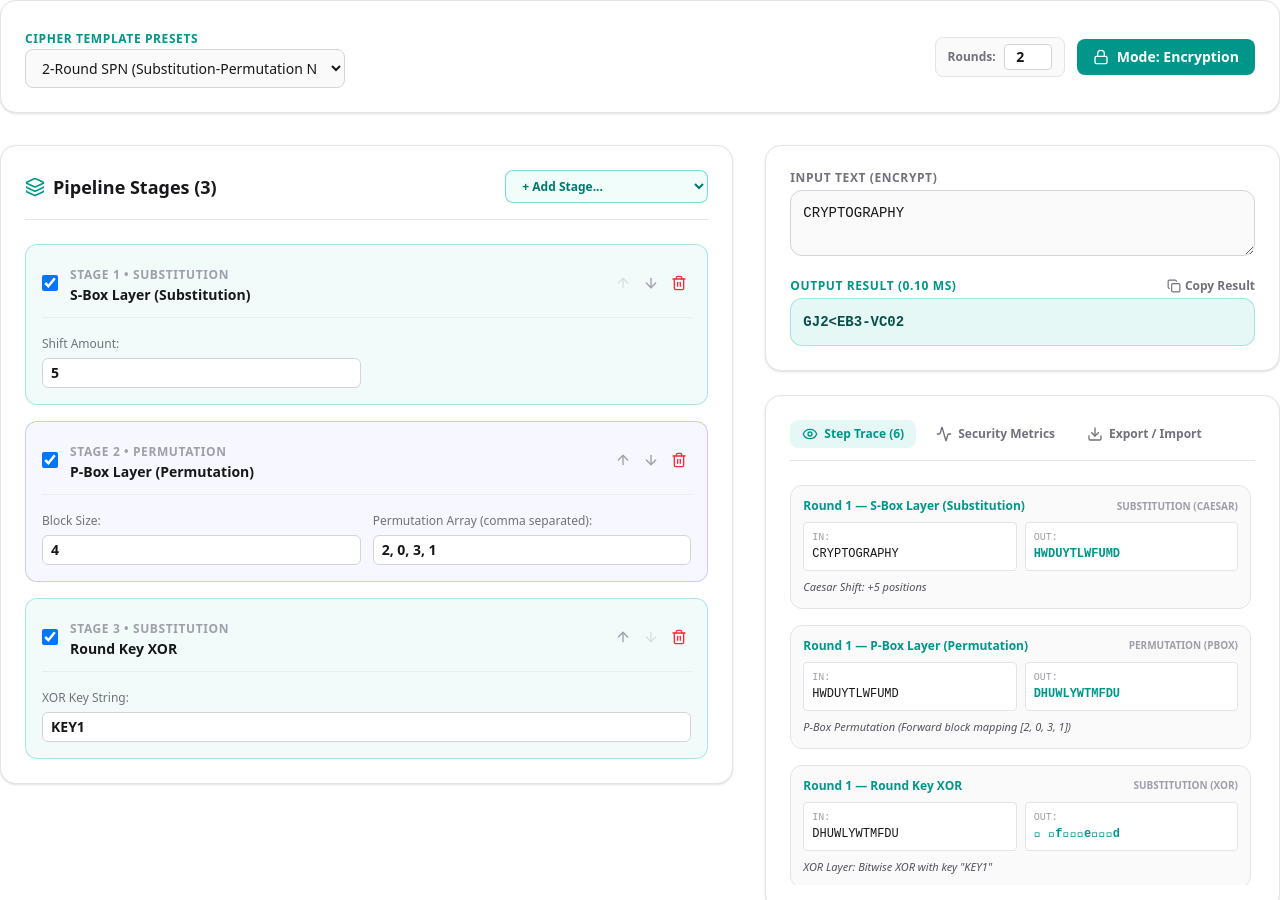
CipherSandbox Component Unit Tests › switches tabs to Security Metrics and Export/Import
Click the button "Security Metrics" at (996, 434), box [924,420,1067,448]
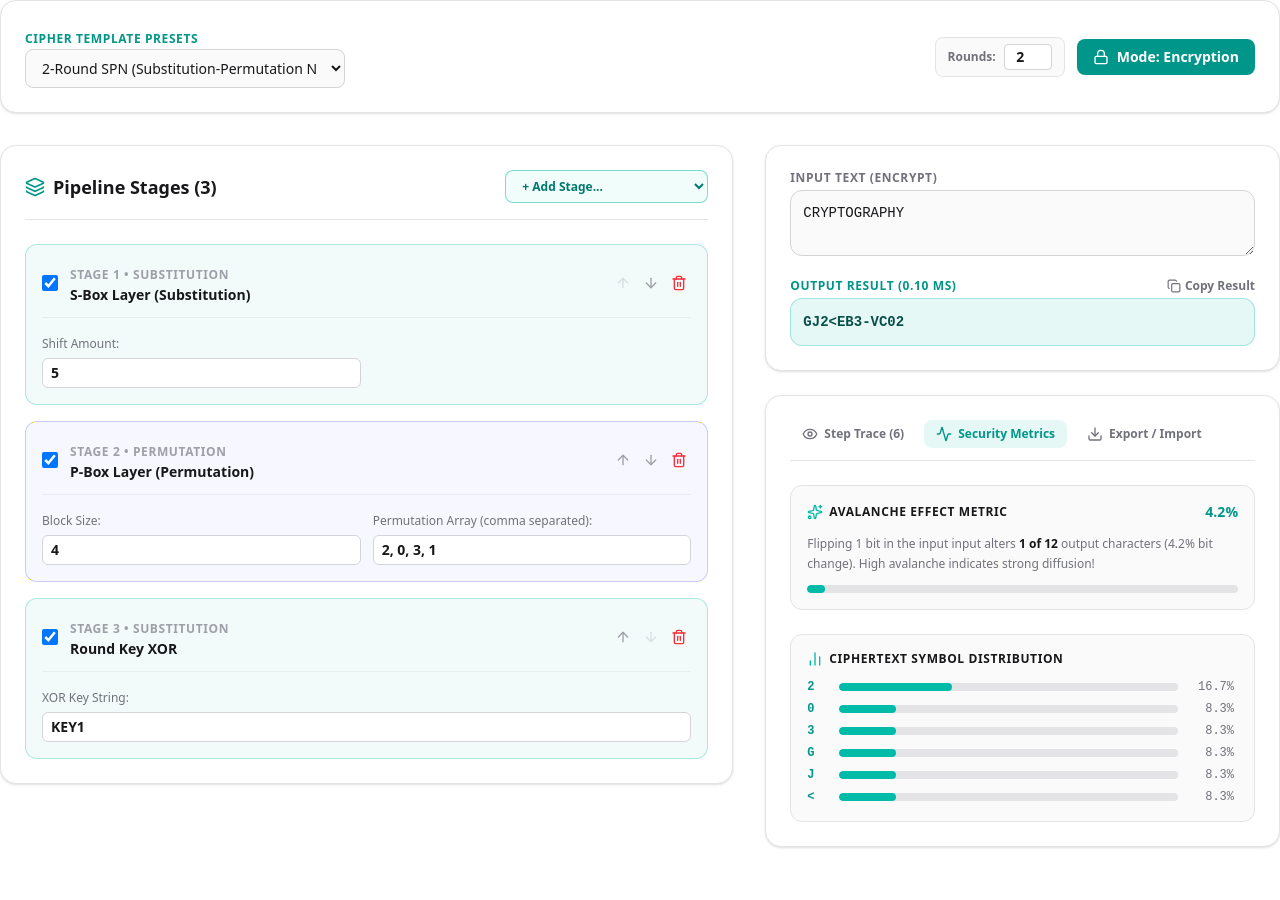
Expected: the heading "Avalanche Effect Metric" is shown, [807,504,1008,520]
Expected: the heading "Ciphertext Symbol Distribution" is shown, [807,650,1063,667]
Click the button "Export / Import" at (1144, 434), box [1075,420,1214,448]
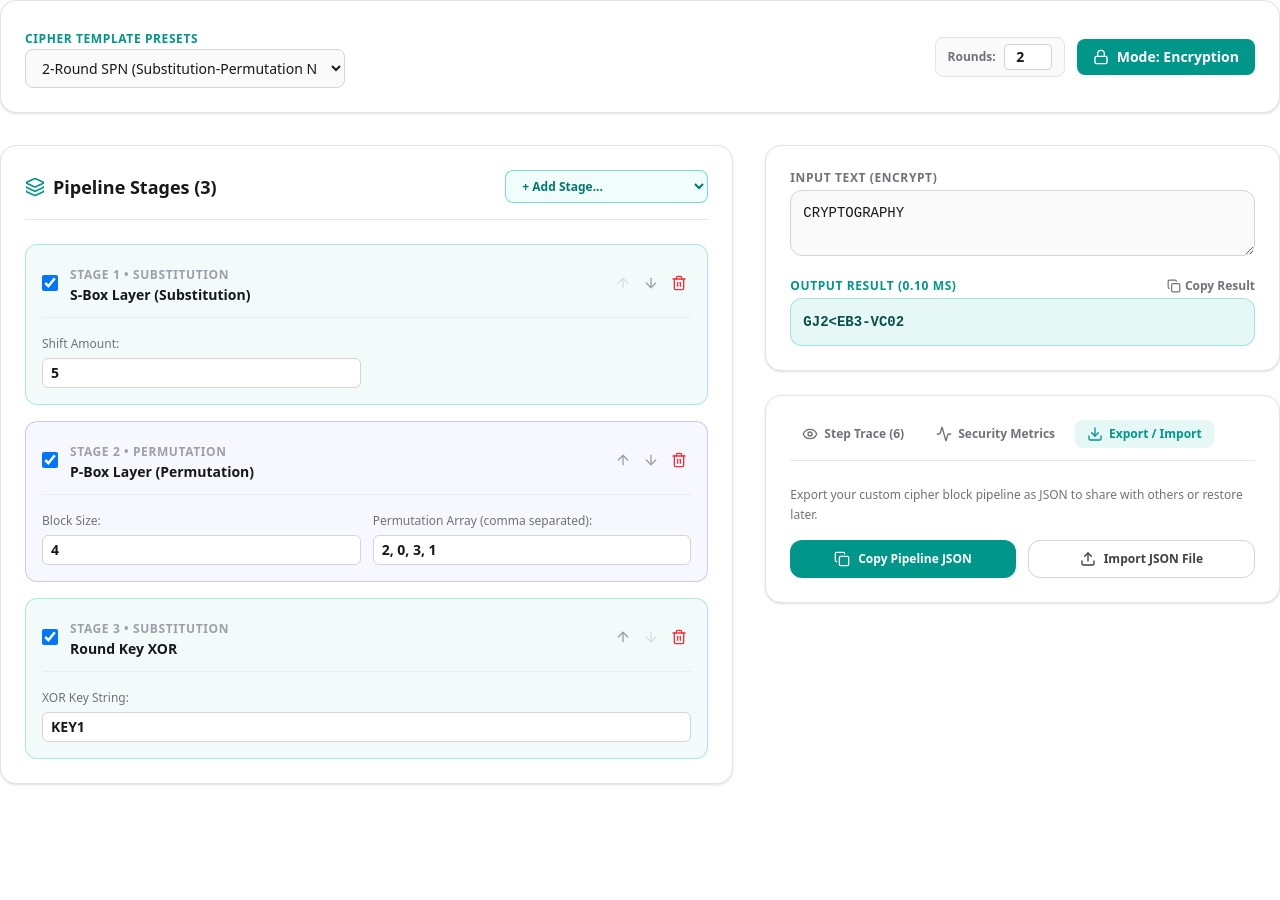
Expected: the button "Copy Pipeline JSON" is shown, [790,540,1016,578]
Expected: the file field "Import JSON File" is shown, [1028,540,1255,578]
